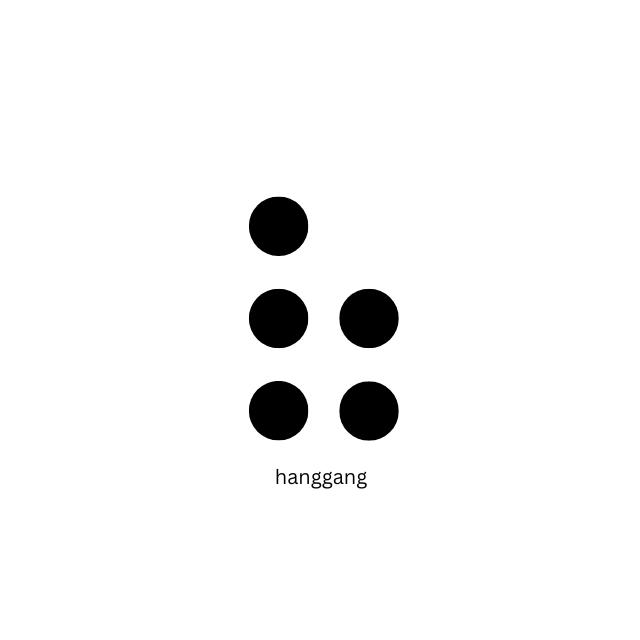one_cell_non_alphabet_hanggang: (246, 194, 401, 442)
